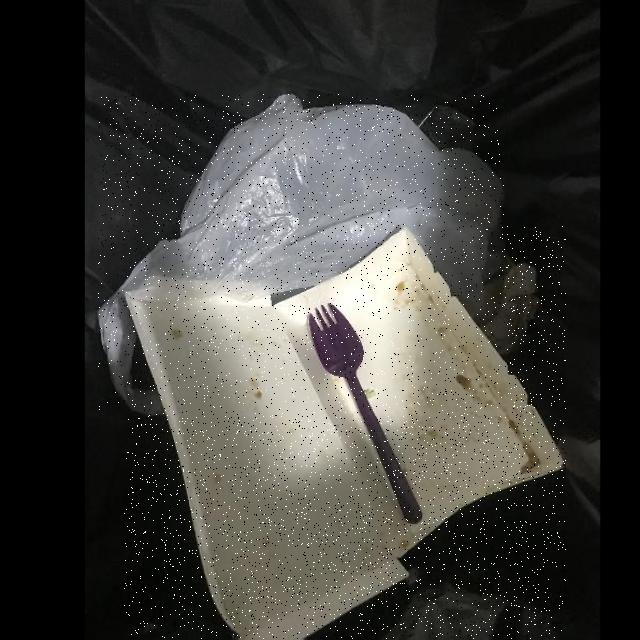paper: (125, 227, 566, 639)
plastic: (99, 95, 504, 416)
